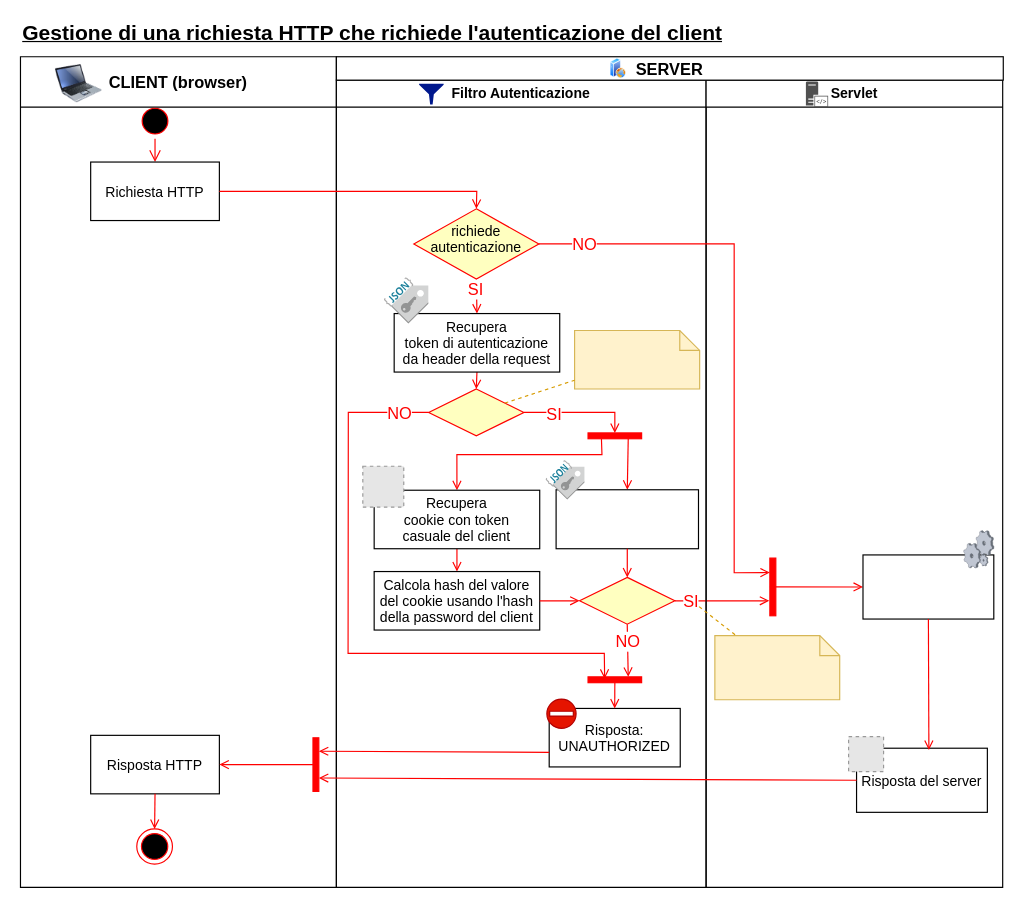
The diagram is 1024 pixels wide and 908 high, and some of its shapes have lost their labels. Grey dashed boxes stand in for pictures. The centre of each missing label's shape, as x and y in pixels:
"Autenticazione verificata" goes at (777,667).
"Autentico (firma valida) e non scaduto" goes at (636,359).
"Elabora richiesta del client" goes at (928,586).
"Recupera claim con hash del valore del cookie" goes at (626,519).
"stesso valore" goes at (626,600).
"token valido" goes at (476,412).
